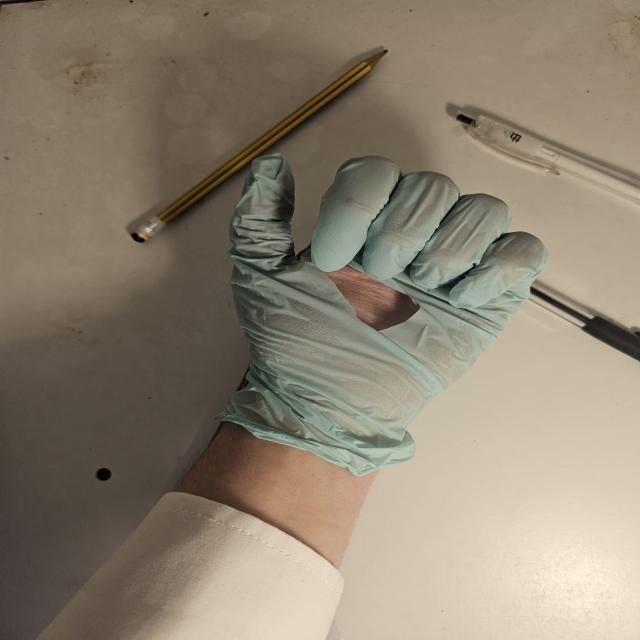gloves_damaged: (218, 150, 550, 472)
